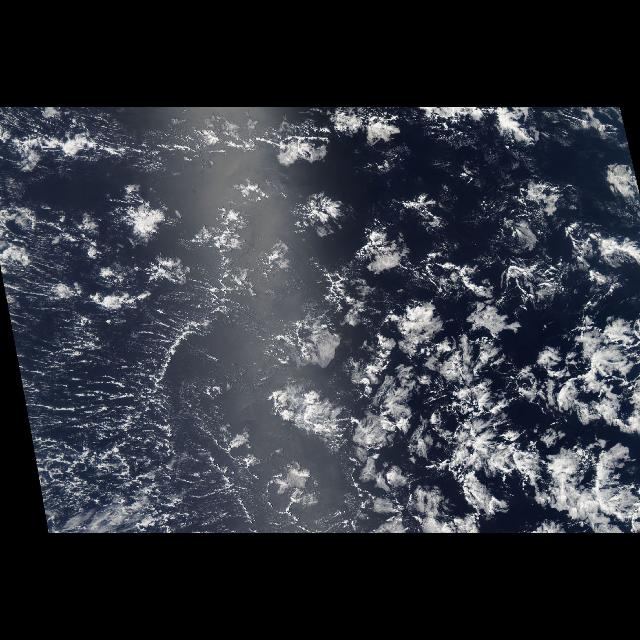Flower: (263, 107, 433, 447)
Gravel: (8, 312, 260, 488)
